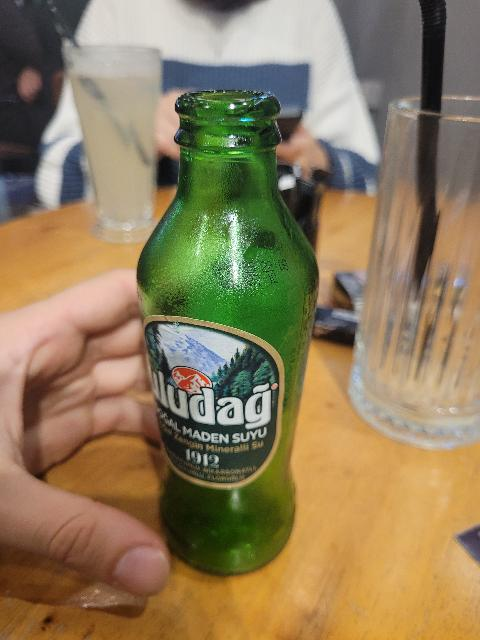Cam: (130, 90, 313, 583), (345, 93, 480, 442), (58, 44, 169, 246)
